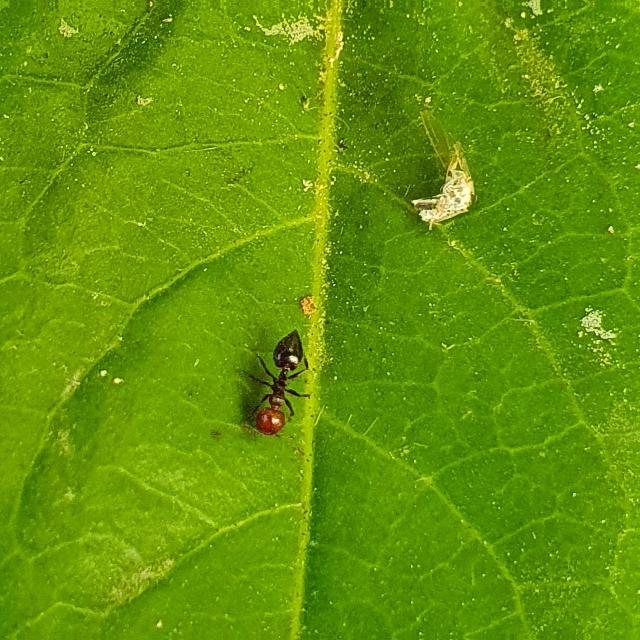Crematogaster: (238, 317, 322, 443)
